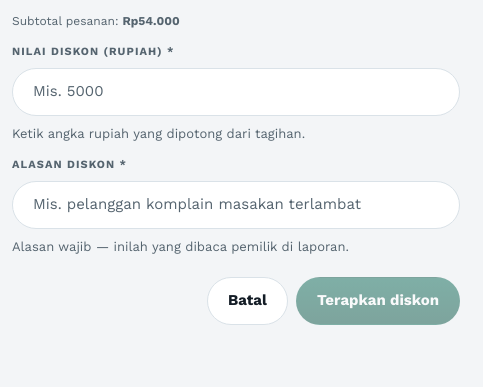
it: DiskonManual › tidak bisa menerapkan diskon tanpa alasan (DoD: pelaku, nilai, alasan)
Type "2000" into the field labelled "Nilai diskon (rupiah) *" at (236, 92), box [12,68,460,116]
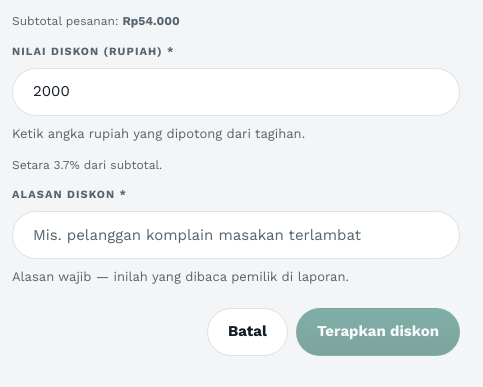
Expected: the button "Terapkan diskon" is disabled, [296,308,460,356]
Type "pelanggan langganan" into the field labelled "Alasan diskon *" at (236, 235), box [12,211,460,259]
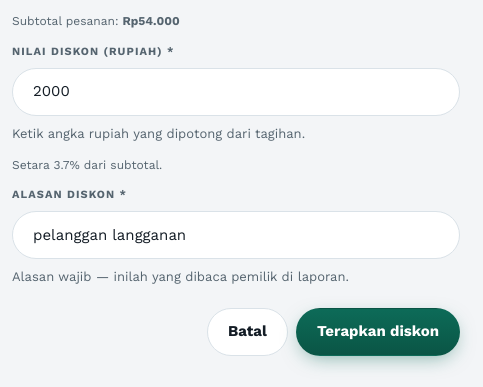
Expected: the button "Terapkan diskon" is enabled, [296,308,460,356]
